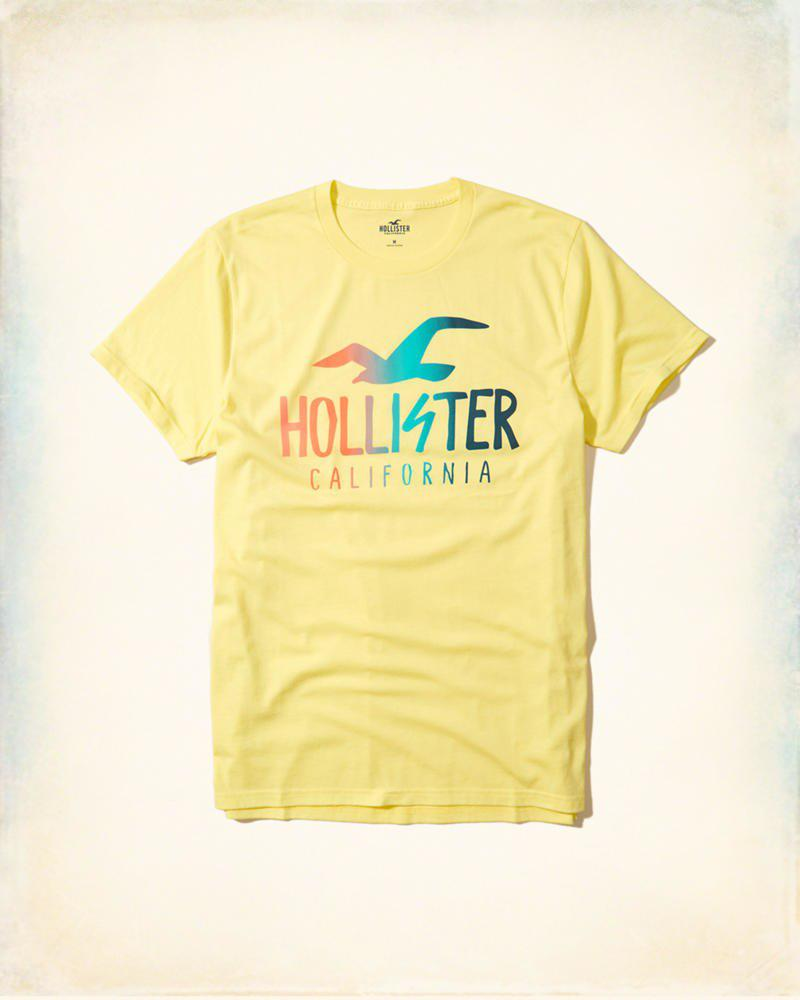teeshirt: (99, 140, 756, 878)
